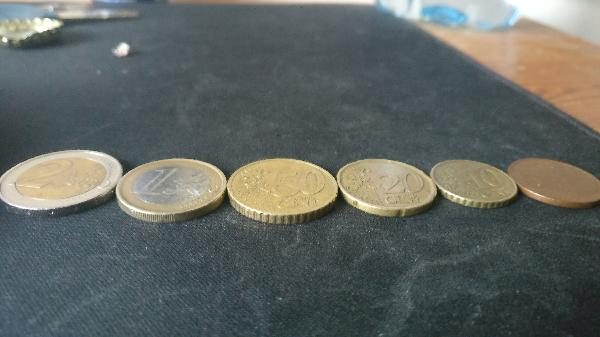Fifty Cent: (230, 154, 343, 224)
Five Cent: (509, 153, 600, 211)
One Euro: (116, 152, 227, 226)
Ten Cent: (431, 156, 516, 213)
Twenty Cent: (337, 156, 438, 220)
Two Euro: (6, 145, 121, 214)
